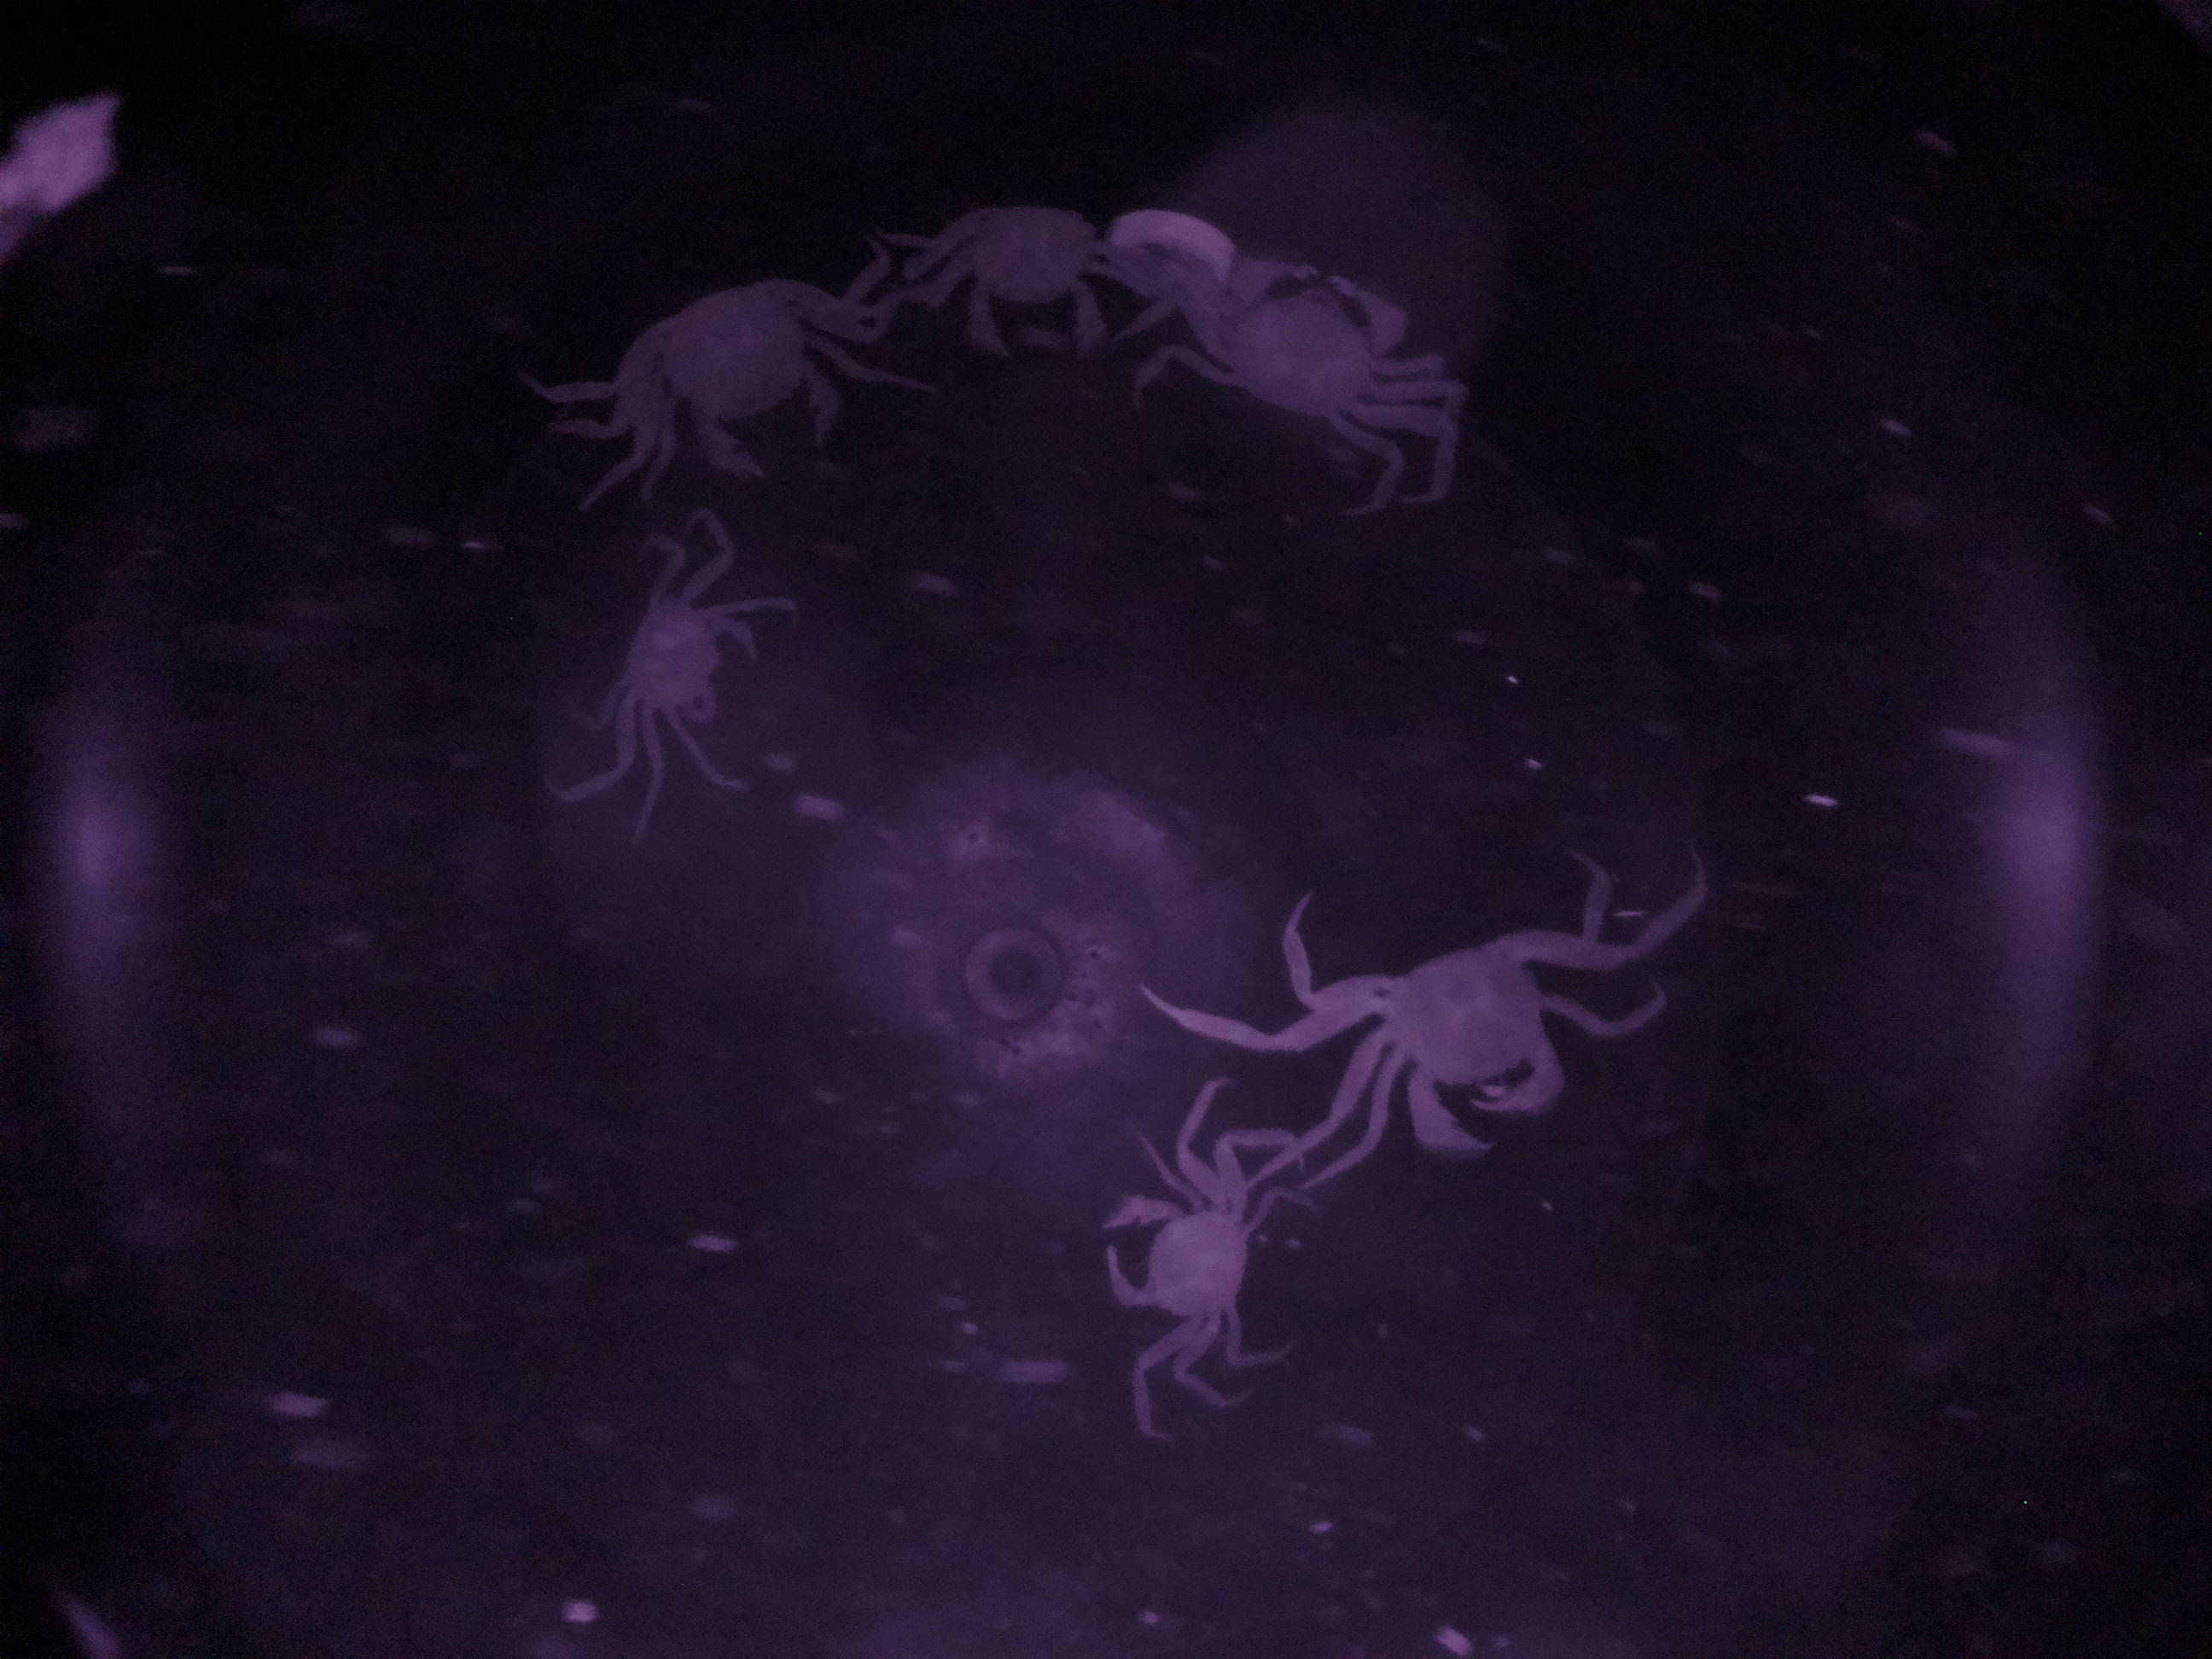Crab: (1305, 917, 1611, 1173), (603, 265, 881, 509), (1169, 246, 1432, 455), (1090, 1143, 1271, 1377), (594, 565, 768, 762)
